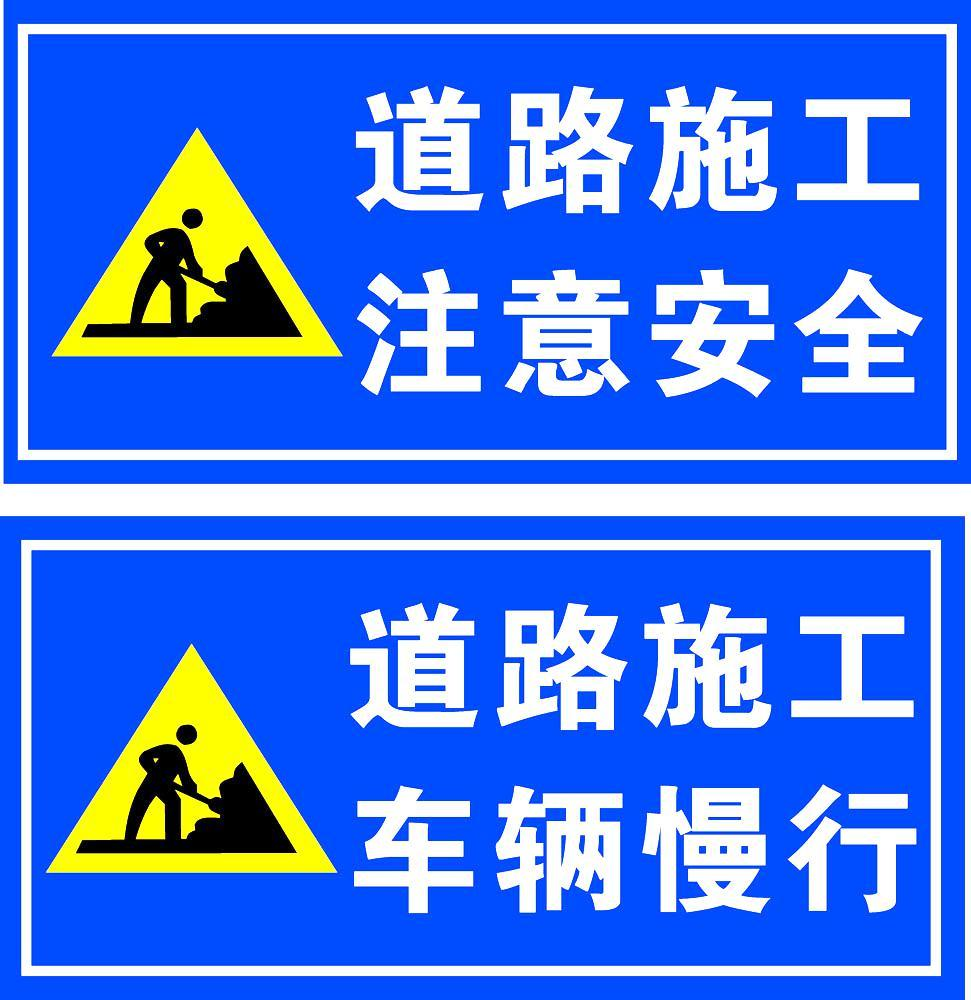sign: (6, 17, 963, 461), (12, 531, 952, 980)
